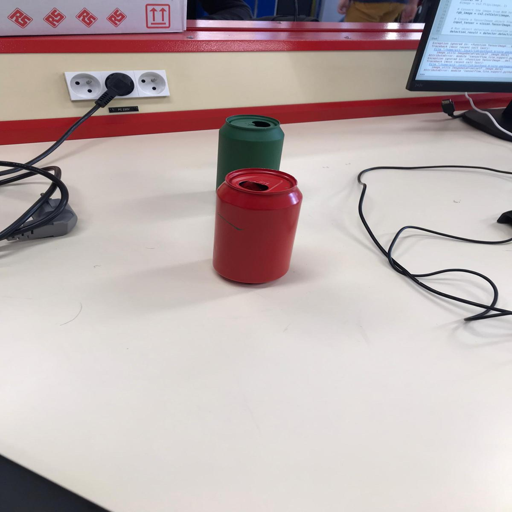Green_Can: (215, 113, 284, 180)
Red_Can: (211, 167, 303, 284)
